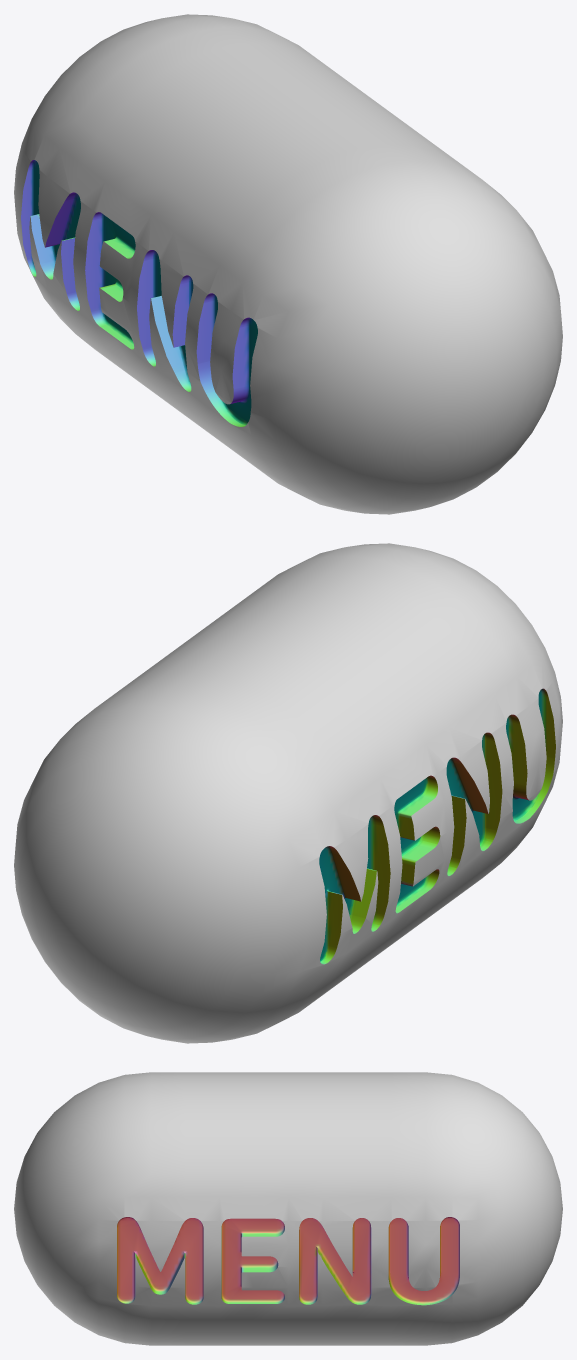
The model's file is pill.obj.
3 views of the same model, one above another, from view 1: azimuth 30°, elevation 25°; view 2: azimuth 150°, elevation 25°; view 3: azimuth 270°, elevation 25° (orthographic). The views are drawn at different scales.
Visible parts, largest first — view 1: Boole.1; view 2: Boole.1; view 3: Boole.1.
Part boxes in pixels (x1=…): Boole.1: x1=14, y1=14, x2=562, y2=514; Boole.1: x1=14, y1=543, x2=562, y2=1043; Boole.1: x1=14, y1=1072, x2=562, y2=1345.
Bounding box in the file's own units: 100 × 100 × 200.
